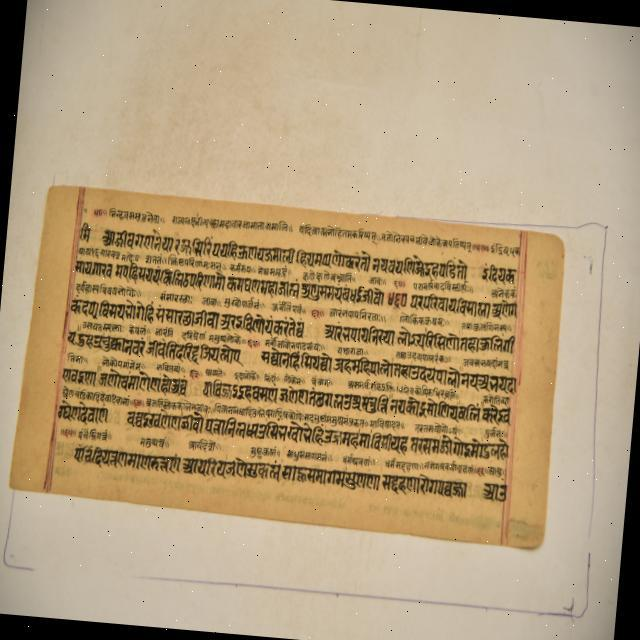text_paragraph: (7, 188, 563, 551)
